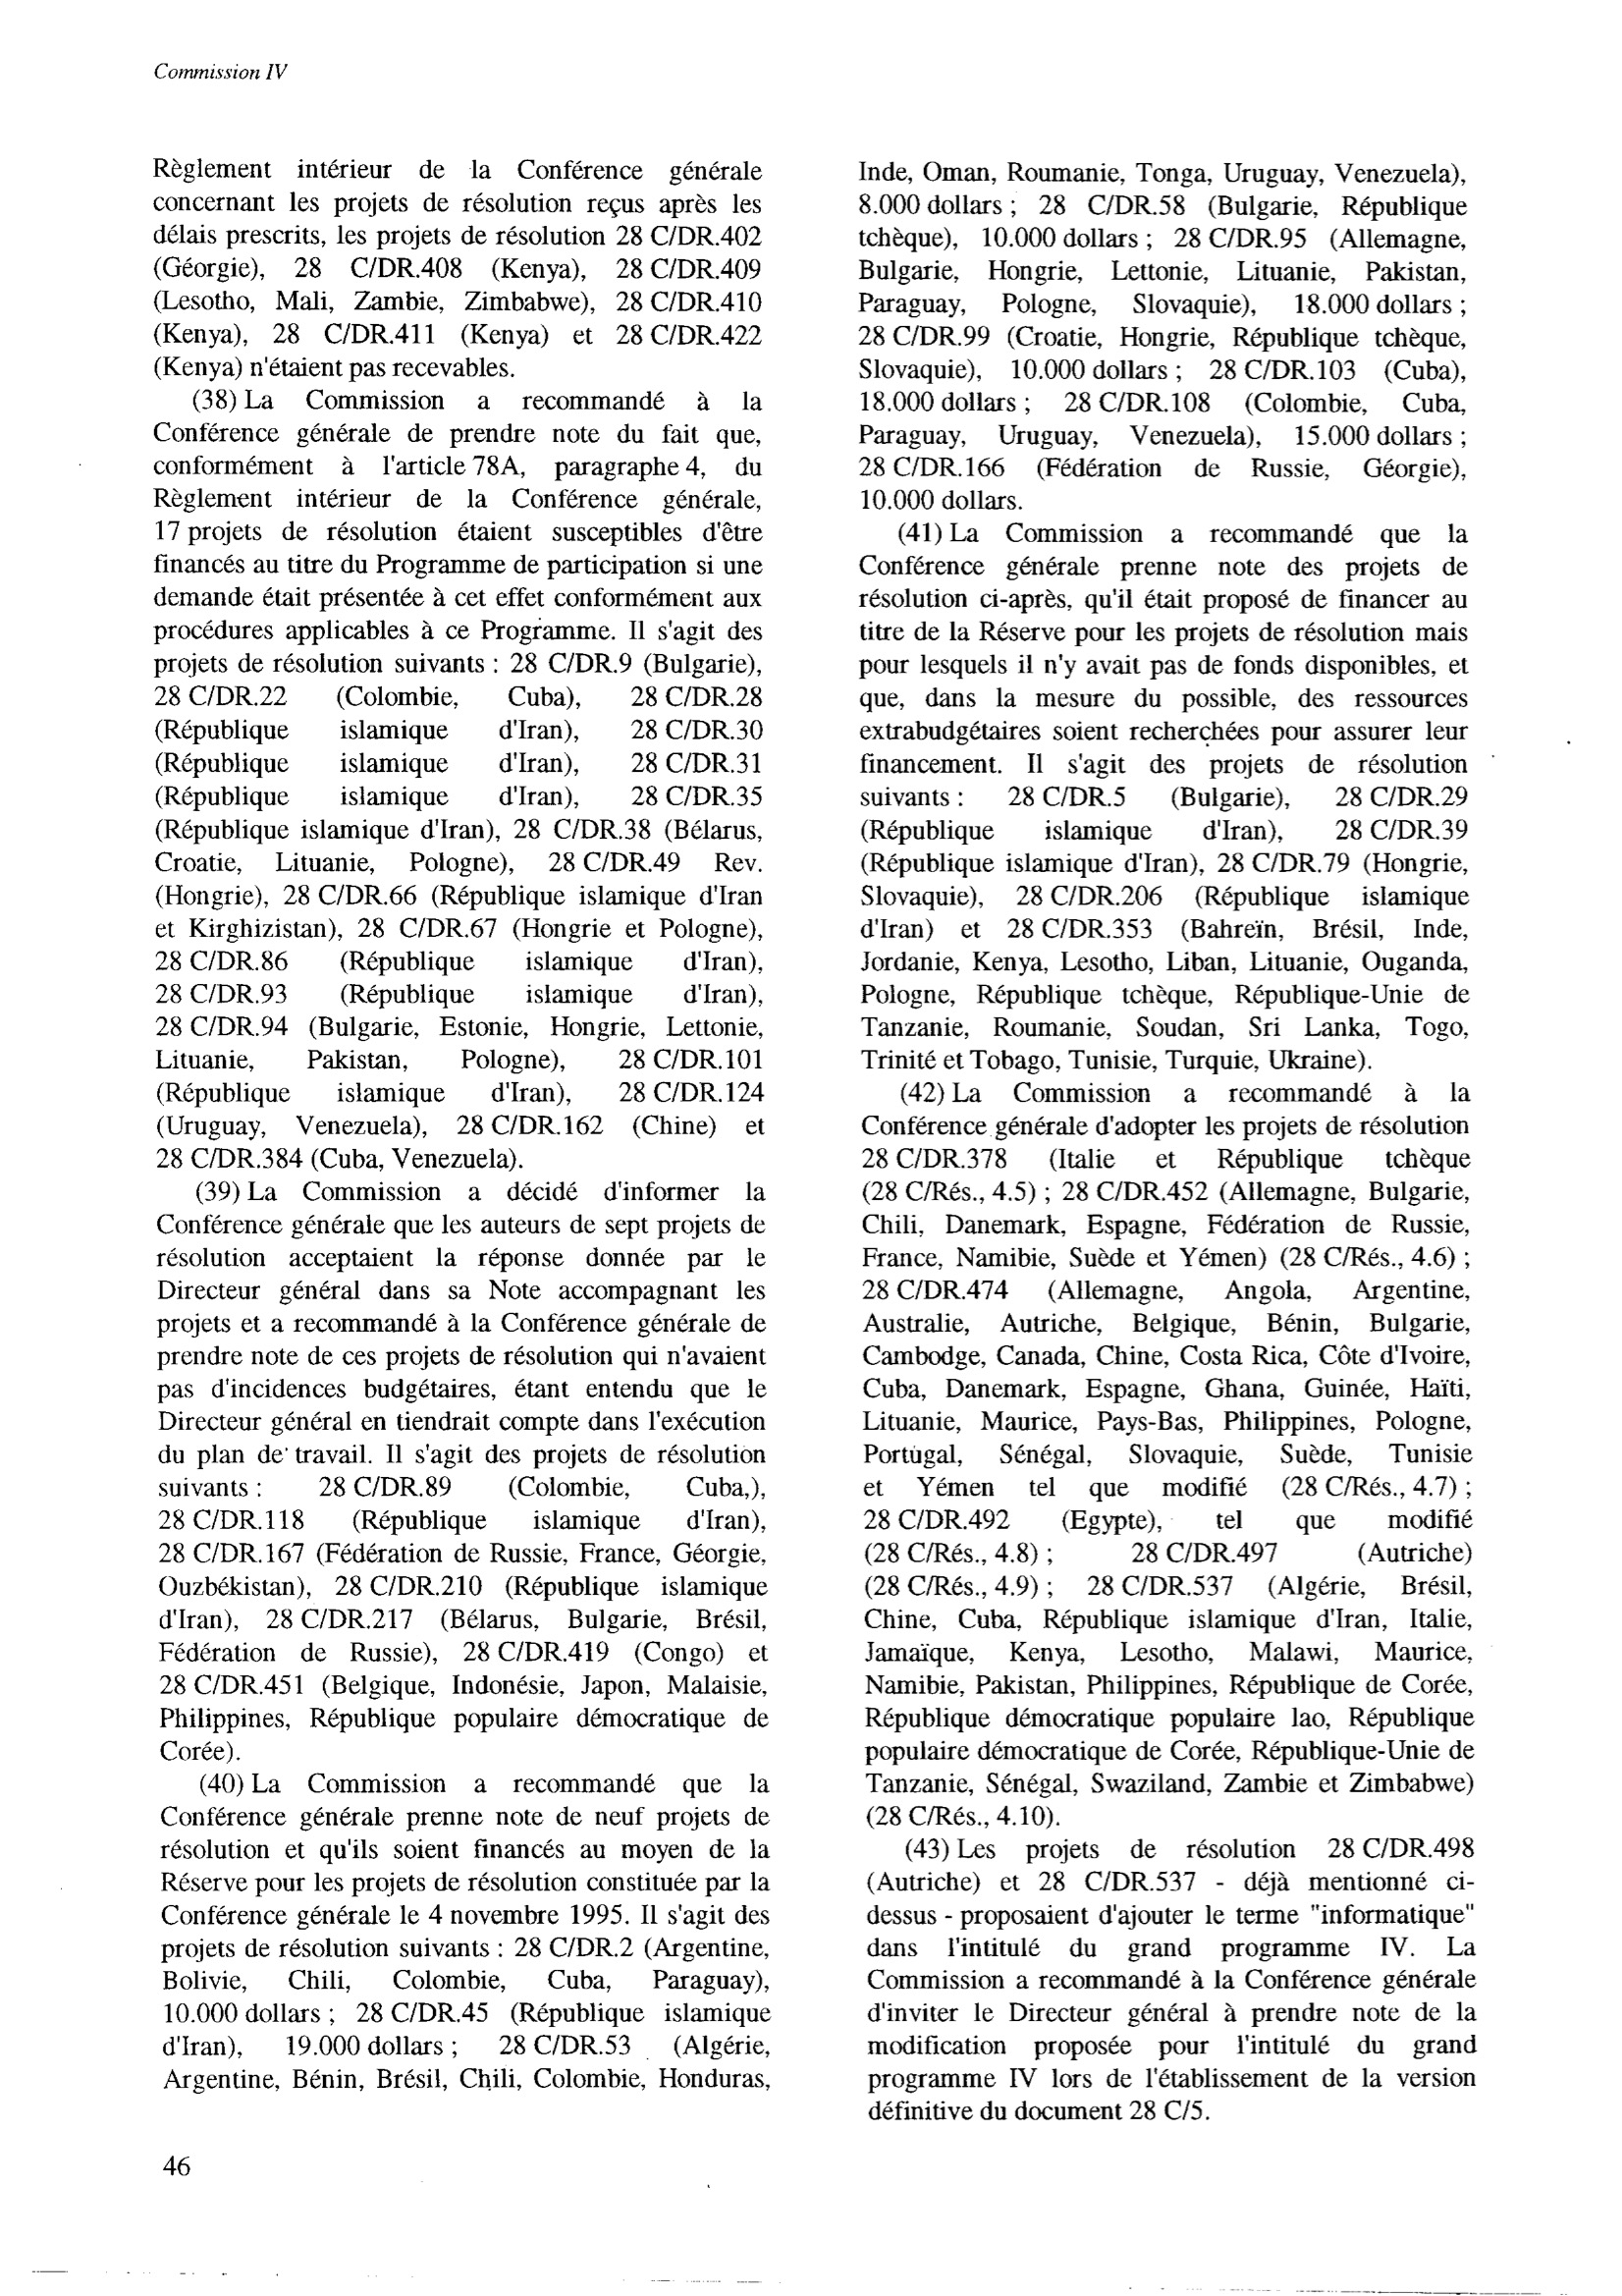MainZone-Continued: (846, 151, 1478, 514), (139, 151, 767, 383)
MainZone-ListItem: (142, 383, 774, 1173), (848, 1081, 1487, 1827), (144, 1174, 772, 1768), (850, 514, 1480, 1076), (151, 1766, 783, 2099), (858, 1831, 1487, 2133)
StampZone: (144, 53, 295, 90)
TitlePageZone: (158, 2149, 198, 2189)
